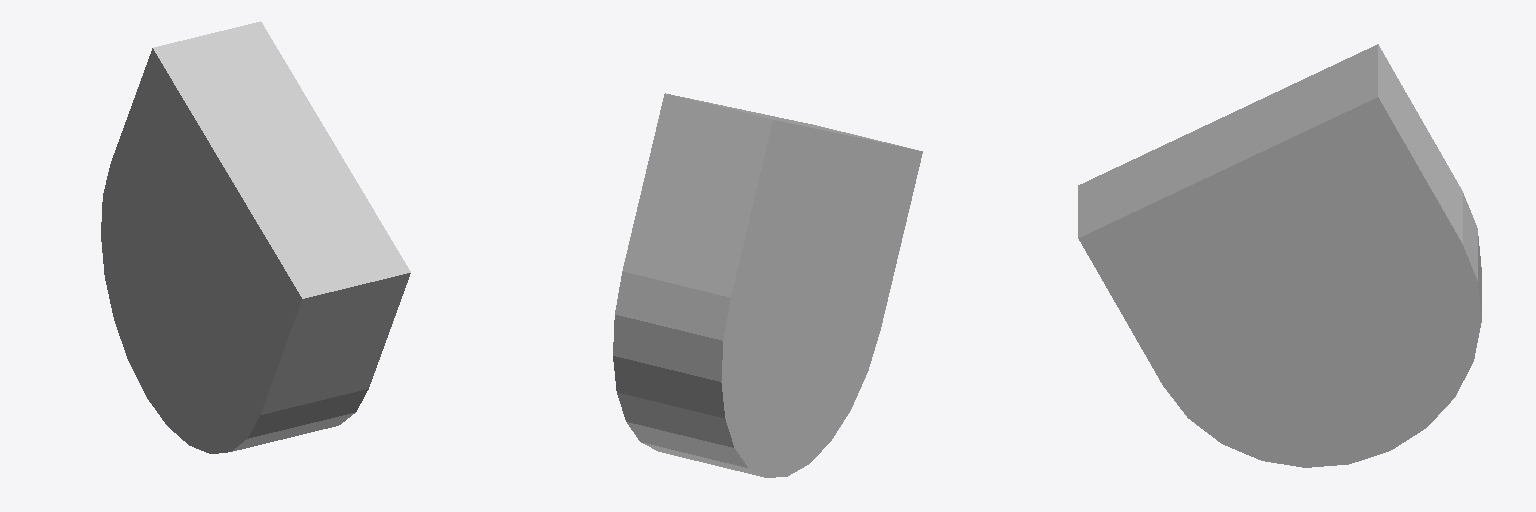
Rendered from original-9.obj.
The picture shows the model from 3 angles: view 1: azimuth 30°, elevation 25°; view 2: azimuth 150°, elevation 25°; view 3: azimuth 270°, elevation 25°; orthographic projection.
Visible parts, largest first — view 1: mesh5/mesh5-geometry#mesh5-geometry; view 2: mesh5/mesh5-geometry#mesh5-geometry; view 3: mesh5/mesh5-geometry#mesh5-geometry.
Part boxes in pixels (left/top/right/bottom): mesh5/mesh5-geometry#mesh5-geometry: left=101, top=21, right=410, bottom=453; mesh5/mesh5-geometry#mesh5-geometry: left=613, top=93, right=922, bottom=477; mesh5/mesh5-geometry#mesh5-geometry: left=1078, top=44, right=1481, bottom=467.
Size of the model in its own units: 0.0214 by 0.0699 by 0.0689.